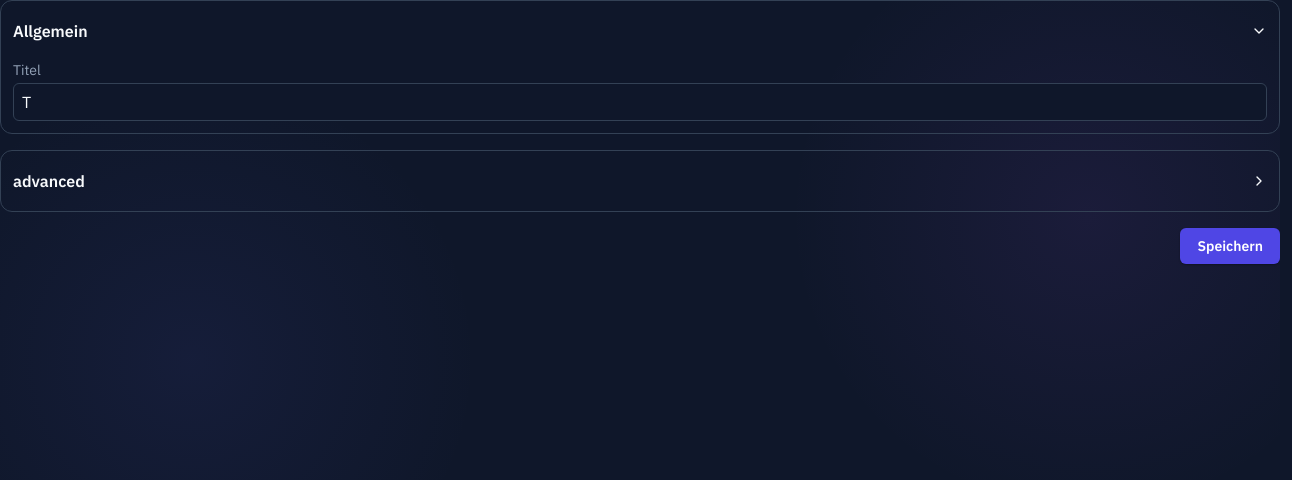
ArtifactForm decomposition — create-vs-edit section collapse › edit mode: an all-expert section is collapsed by default and expands on toggle
Expected: the field with test id "artifact-field-title" is shown, [13,83,1267,121]
Click the button with test id "artifact-section-toggle-advanced".
click(49, 181)  # box [13,163,1267,199]
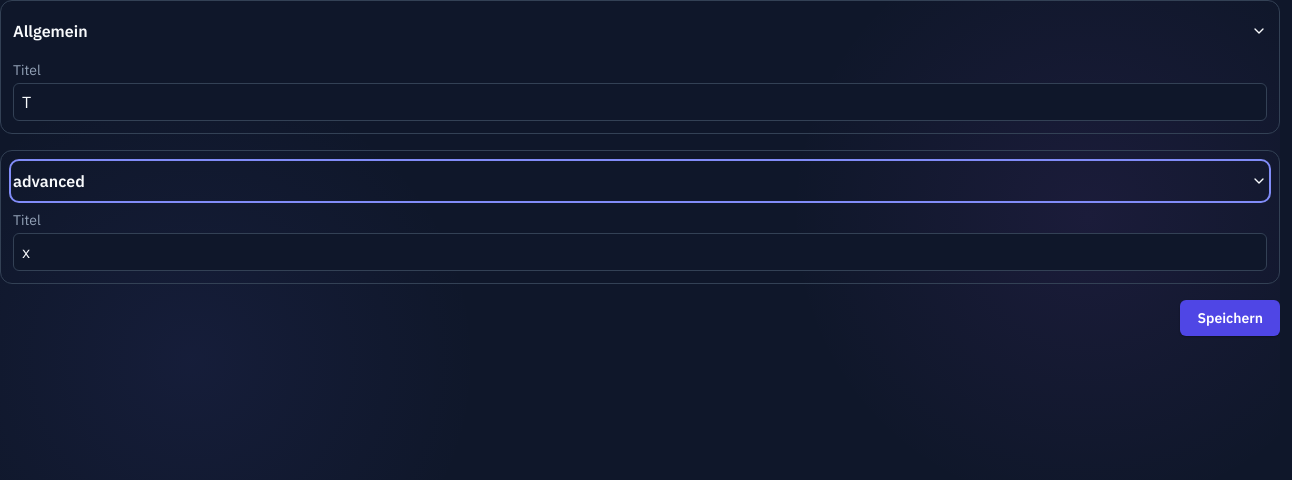
Expected: the element with test id "artifact-section-body-advanced" is shown, [13,211,1267,271]
Expected: the button with test id "artifact-section-toggle-advanced" is expanded, [13,163,1267,199]
